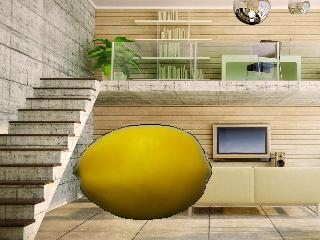lemon: (73, 125, 213, 220)
